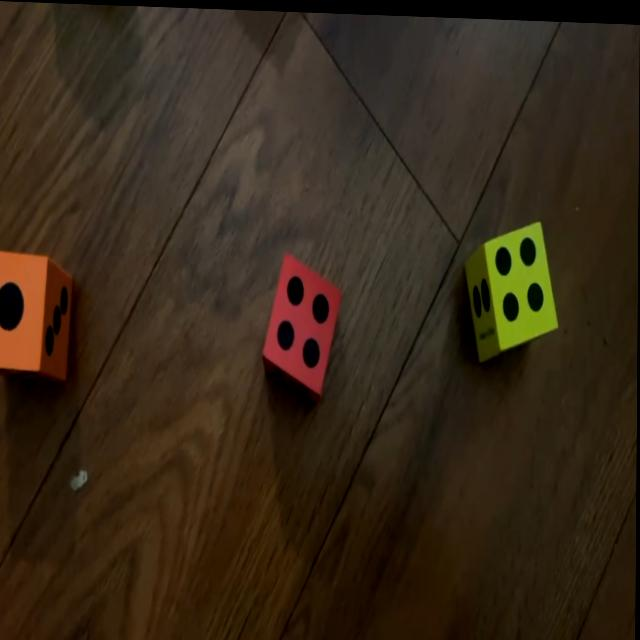red_block: (262, 251, 343, 397)
